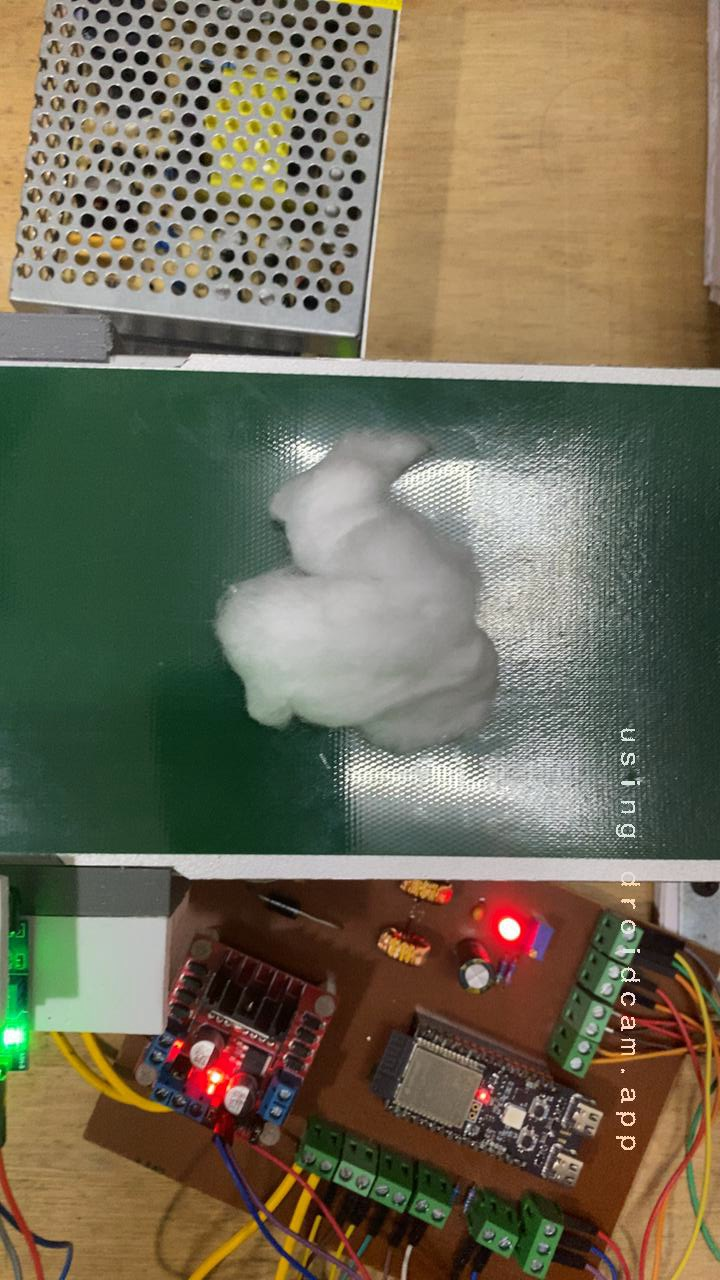cotton: (177, 407, 529, 757)
